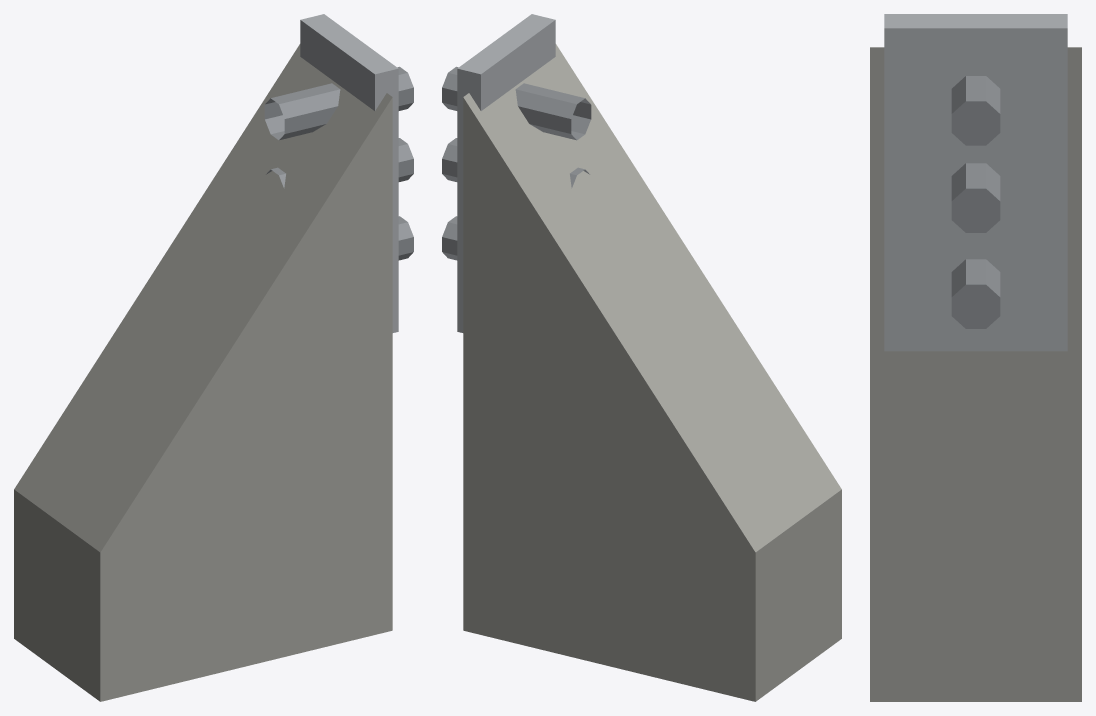
Rendered from guardrail_cable_anchor_mirrored.obj.
3 views of the same model, side by side, from view 1: azimuth 30°, elevation 25°; view 2: azimuth 150°, elevation 25°; view 3: azimuth 270°, elevation 25° (orthographic). The views are drawn at different scales.
Visible parts, largest first — view 1: guardrail_cable_anchor_mirrored; view 2: guardrail_cable_anchor_mirrored; view 3: guardrail_cable_anchor_mirrored.
Part boxes in pixels (x1=…): guardrail_cable_anchor_mirrored: x1=14, y1=14, x2=413, y2=701; guardrail_cable_anchor_mirrored: x1=442, y1=14, x2=841, y2=701; guardrail_cable_anchor_mirrored: x1=870, y1=14, x2=1081, y2=701.
Bounding box in the file's own units: 0.6375 × 0.975 × 0.275.
